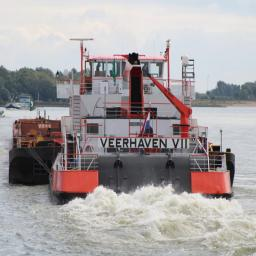tugboat: (51, 37, 239, 209)
